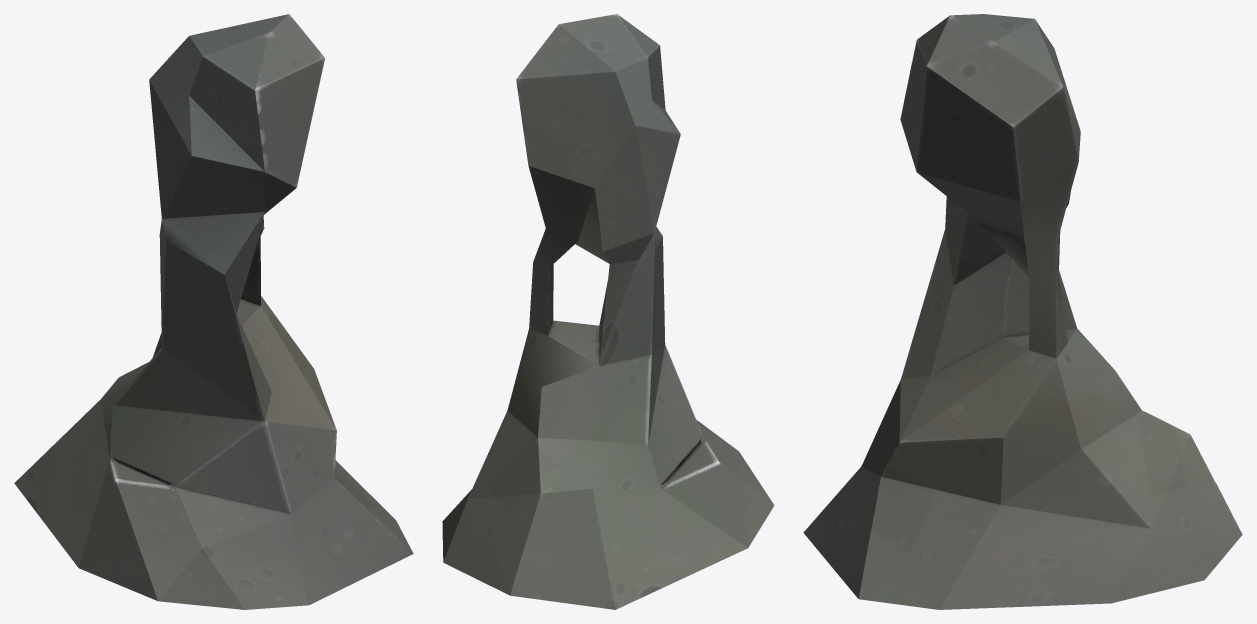
Rendered from SM_Cavern_Rocks_04.FBX.
3 views of the same model, side by side, from view 1: azimuth 30°, elevation 25°; view 2: azimuth 150°, elevation 25°; view 3: azimuth 270°, elevation 25° (orthographic). The views are drawn at different scales.
Visible parts, largest first — view 1: SM_Cavern_Rocks_04; view 2: SM_Cavern_Rocks_04; view 3: SM_Cavern_Rocks_04.
Part boxes in pixels (left/top/right/bottom): SM_Cavern_Rocks_04: left=14, top=14, right=413, bottom=609; SM_Cavern_Rocks_04: left=442, top=14, right=774, bottom=609; SM_Cavern_Rocks_04: left=803, top=14, right=1242, bottom=609.
Size of the model in its own units: 182 by 233 by 311.
